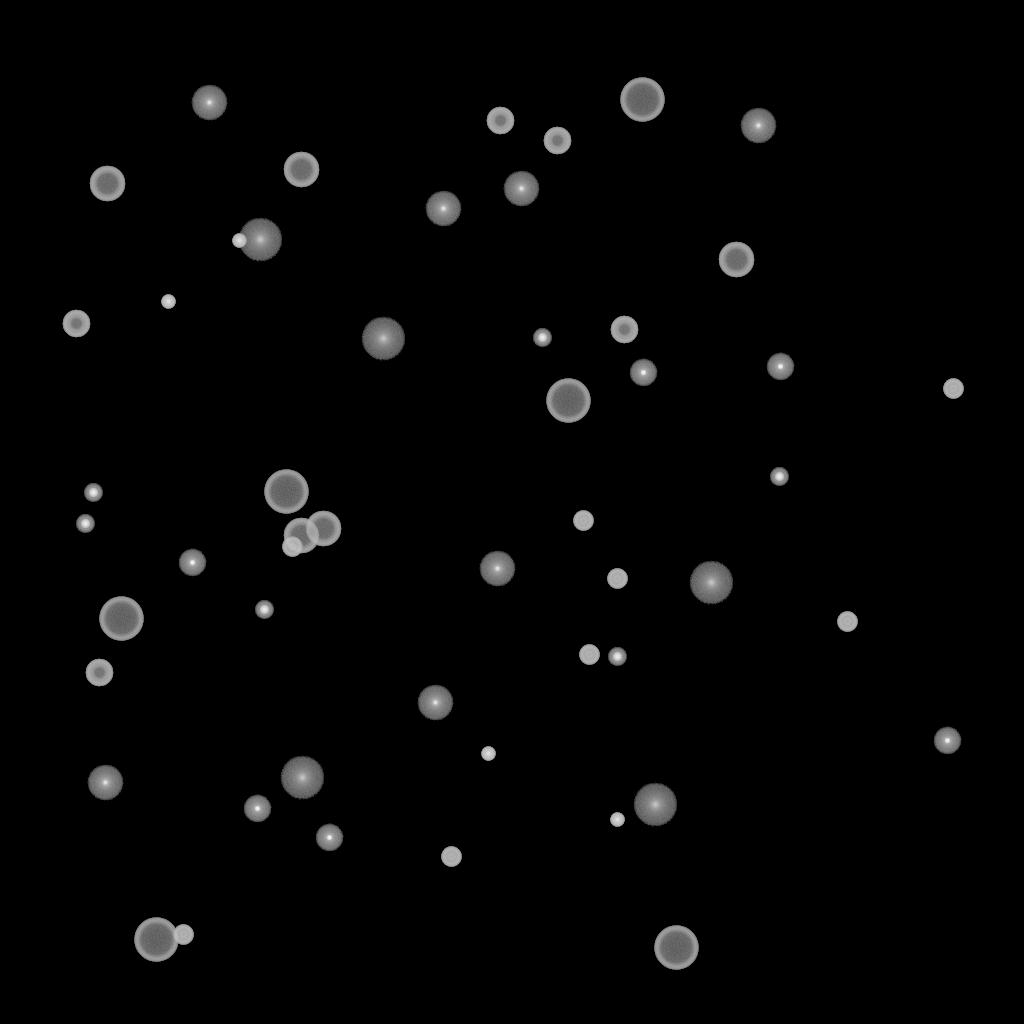depth:-10: (315, 824, 343, 852), (629, 359, 657, 387), (243, 795, 271, 823), (178, 549, 206, 577), (766, 353, 794, 381), (933, 727, 961, 755)
depth:-20: (533, 329, 551, 347), (770, 468, 788, 486), (255, 601, 273, 619), (76, 515, 94, 533), (84, 484, 102, 502), (608, 648, 626, 666)
depth:-30: (232, 234, 246, 248), (481, 747, 495, 761), (161, 295, 175, 309), (610, 813, 624, 827)
depth:-40: (943, 379, 963, 399), (837, 612, 857, 632), (173, 925, 193, 945), (579, 645, 599, 665), (607, 569, 627, 589), (573, 511, 593, 531), (441, 847, 461, 867), (282, 537, 302, 557)
depth:-50: (486, 107, 514, 135), (85, 659, 113, 687), (610, 316, 638, 344), (543, 127, 571, 155), (62, 310, 90, 338)
depth:-60: (718, 242, 754, 278), (89, 166, 125, 202), (283, 152, 319, 188), (283, 518, 319, 554), (305, 511, 341, 547)
depth:-70: (620, 78, 664, 122), (99, 597, 143, 641), (134, 918, 178, 962), (546, 379, 590, 423), (264, 470, 308, 514), (654, 926, 698, 970)
depth:0: (425, 191, 461, 227), (740, 108, 776, 144), (87, 765, 123, 801), (503, 171, 539, 207), (191, 85, 227, 121), (417, 685, 453, 721), (479, 551, 515, 587)
depth:10: (280, 756, 324, 800), (238, 218, 282, 262), (633, 783, 677, 827), (689, 561, 733, 605), (361, 317, 405, 361)
